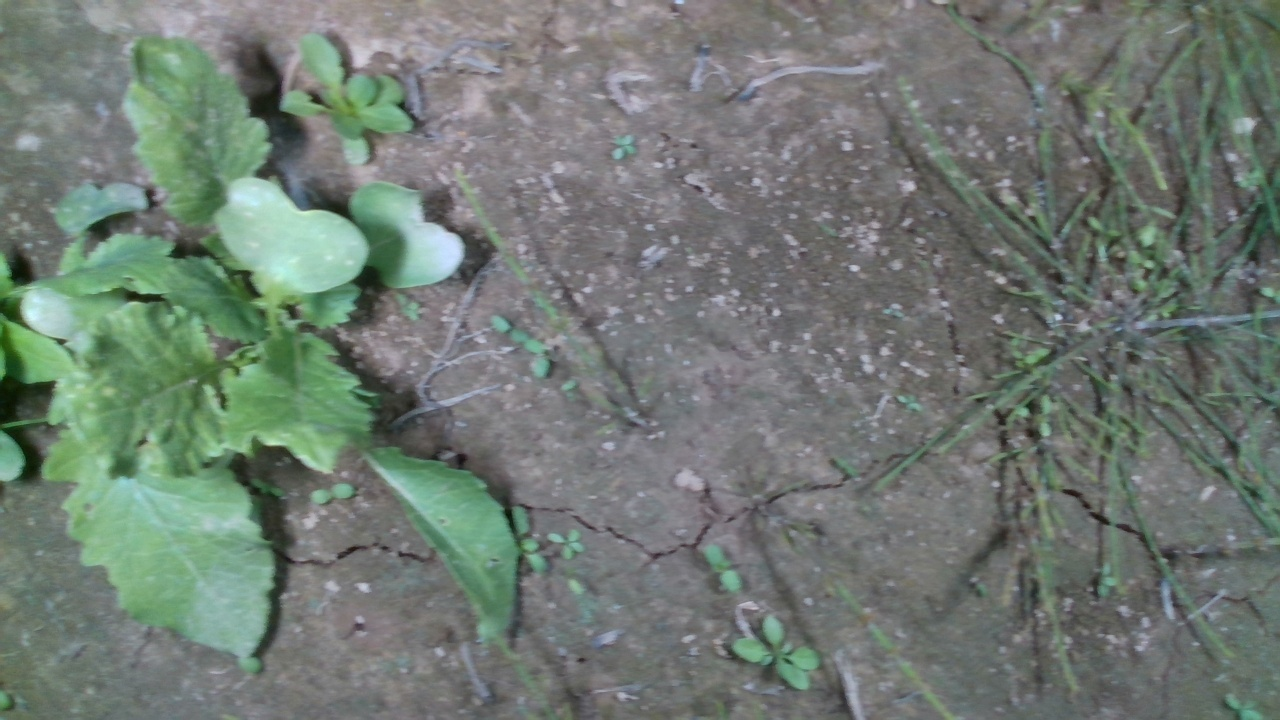weed: (701, 542, 740, 594), (545, 525, 586, 560), (306, 480, 356, 508), (607, 131, 641, 160)
